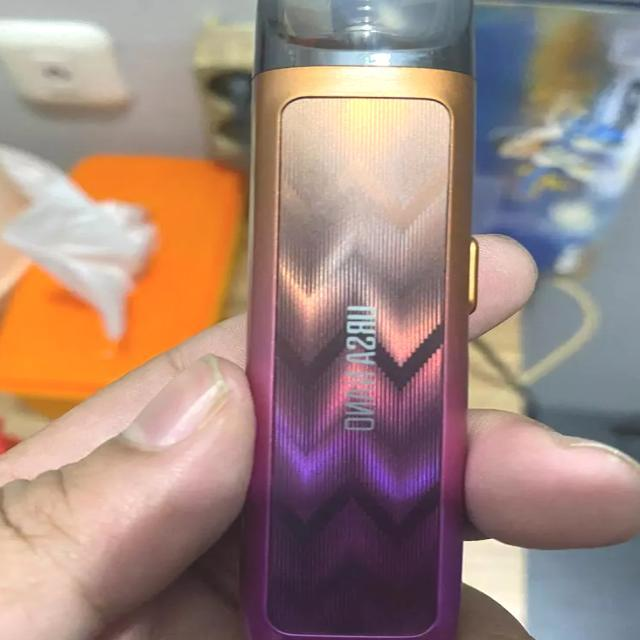Hazard: (242, 0, 479, 640)
